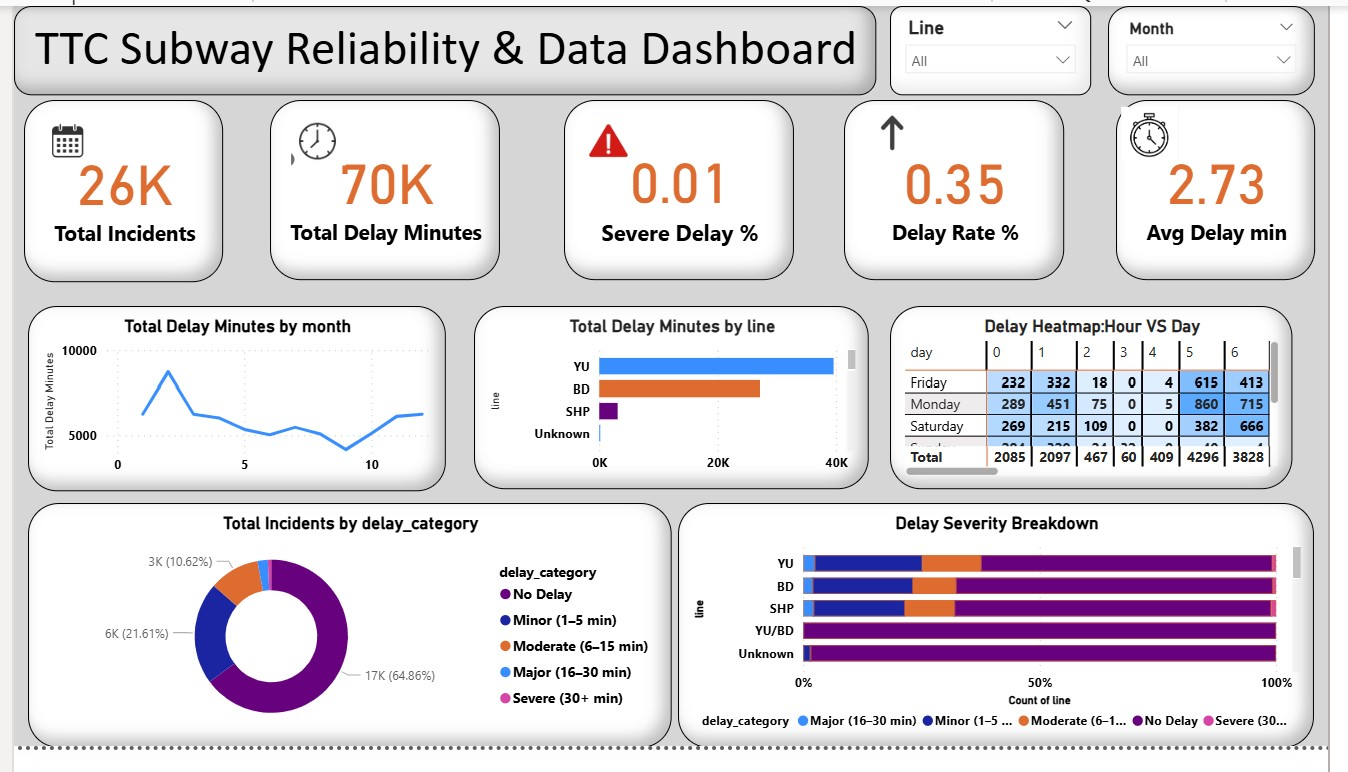

This screenshot's page, from the dashboard's own definition file:
{"tool":"powerbi","page":{"name":"Executive Overview","canvas":[1280,720],"ordinal":0},"visuals":[{"type":"card","fields":{"Values":["delay_analysis_data.Total Incidents"]},"box":[9.2,90.6,194.2,177.6],"z":0},{"type":"card","fields":{"Values":["delay_analysis_data.Total Delay Minutes"]},"box":[249.7,92.5,223.8,175.7],"z":1000},{"type":"card","fields":{"Values":["delay_analysis_data.Severe Delay %"]},"box":[536.4,92.5,223.8,175.7],"z":2000},{"type":"card","fields":{"Values":["delay_analysis_data.Delay Rate"]},"box":[808.3,90.6,214.6,175.7],"z":3000},{"type":"card","fields":{"Values":["delay_analysis_data.Avg Delay"]},"box":[1072.8,90.6,194.2,175.7],"z":4000},{"type":"lineChart","fields":{"Category":["delay_analysis_data.month"],"Y":["delay_analysis_data.Total Delay Minutes"]},"box":[12.9,292.3,406.9,179.4],"z":5000},{"type":"clusteredBarChart","fields":{"Category":["delay_analysis_data.line"],"Y":["delay_analysis_data.Total Delay Minutes"]},"box":[447.6,292.3,384.7,177.6],"z":6000},{"type":"hundredPercentStackedBarChart","title":"Delay Severity Breakdown","fields":{"Series":["delay_analysis_data.delay_category"],"Y":["CountNonNull(delay_analysis_data.line)"],"Category":["delay_analysis_data.line"]},"box":[647.4,482.8,619.7,238.6],"z":7000},{"type":"pivotTable","title":"Delay Heatmap:Hour VS Day","fields":{"Rows":["delay_analysis_data.day"],"Columns":["delay_analysis_data.hour"],"Values":["delay_analysis_data.Total Delay Minutes"]},"box":[852.7,292.3,392.1,177.6],"z":8000},{"type":"shape","box":[0,0,852.7,92.5],"z":9000},{"type":"textbox","box":[0,0,839.8,86.9],"z":10000},{"type":"shape","box":[852.7,0,427.3,90.6],"z":11000},{"type":"slicer","fields":{"Values":["delay_analysis_data.line"]},"box":[852.7,0,196.1,86.9],"z":12000},{"type":"slicer","fields":{"Values":["delay_analysis_data.month"]},"box":[1065.4,0,201.6,86.9],"z":13000},{"type":"donutChart","fields":{"Y":["delay_analysis_data.Total Incidents"],"Category":["delay_analysis_data.delay_category"]},"box":[12.9,482.8,627.1,238.6],"z":14000},{"type":"image","box":[25.9,99.9,53.6,61],"z":15000},{"type":"image","box":[264.5,99.9,62.9,61],"z":16000},{"type":"image","box":[551.2,101.7,55.5,61],"z":17000},{"type":"image","box":[821.3,90.6,64.7,62.9],"z":18000},{"type":"image","box":[1072.8,86.9,66.6,74],"z":19000}]}

Visuals, with their boxes in screenshot pixels (x1, y1, x2, y2), scaled from the page's 1280x720 canvas onto the 1348x772 screenshot:
card - delay_analysis_data.Total Incidents: 10:97:214:288
card - delay_analysis_data.Total Delay Minutes: 263:99:499:288
card - delay_analysis_data.Severe Delay %: 565:99:801:288
card - delay_analysis_data.Delay Rate: 851:97:1077:286
card - delay_analysis_data.Avg Delay: 1130:97:1334:286
lineChart - delay_analysis_data.month x delay_analysis_data.Total Delay Minutes: 14:313:442:506
clusteredBarChart - delay_analysis_data.line x delay_analysis_data.Total Delay Minutes: 471:313:877:504
"Delay Severity Breakdown" hundredPercentStackedBarChart: 682:518:1334:771
"Delay Heatmap:Hour VS Day" pivotTable: 898:313:1311:504
shape: 0:0:898:99
textbox: 0:0:884:93
shape: 898:0:1347:97
slicer - delay_analysis_data.line: 898:0:1105:93
slicer - delay_analysis_data.month: 1122:0:1334:93
donutChart - delay_analysis_data.Total Incidents x delay_analysis_data.delay_category: 14:518:674:771
image: 27:107:84:173
image: 279:107:345:173
image: 580:109:639:174
image: 865:97:933:165
image: 1130:93:1200:173
